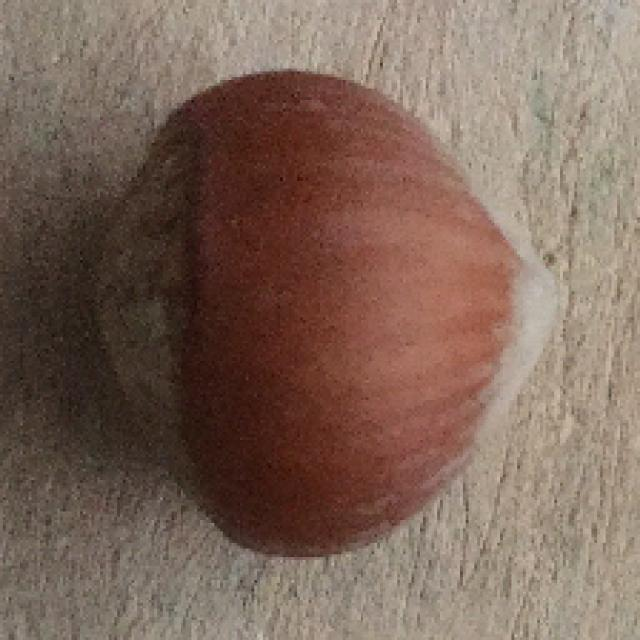qualityHazelnut: (79, 62, 562, 568)
